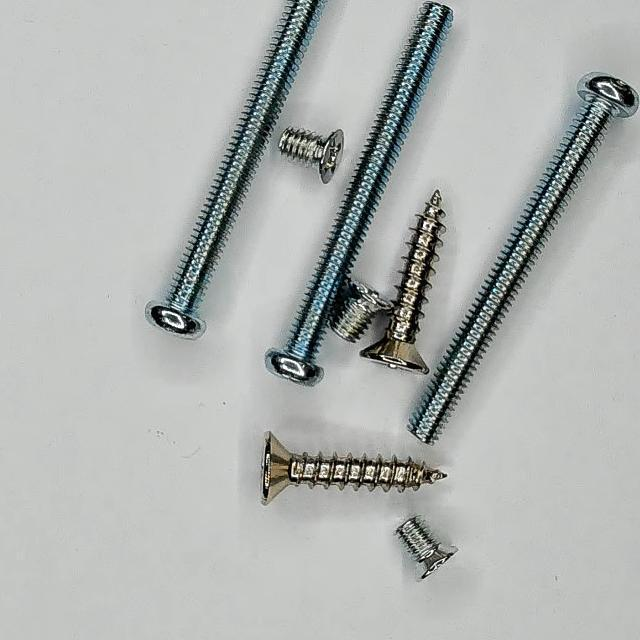Screw: (411, 72, 640, 444), (266, 1, 453, 386), (146, 0, 322, 338), (361, 190, 446, 374), (261, 432, 447, 506), (330, 278, 394, 342), (397, 517, 459, 580), (279, 128, 343, 184)
